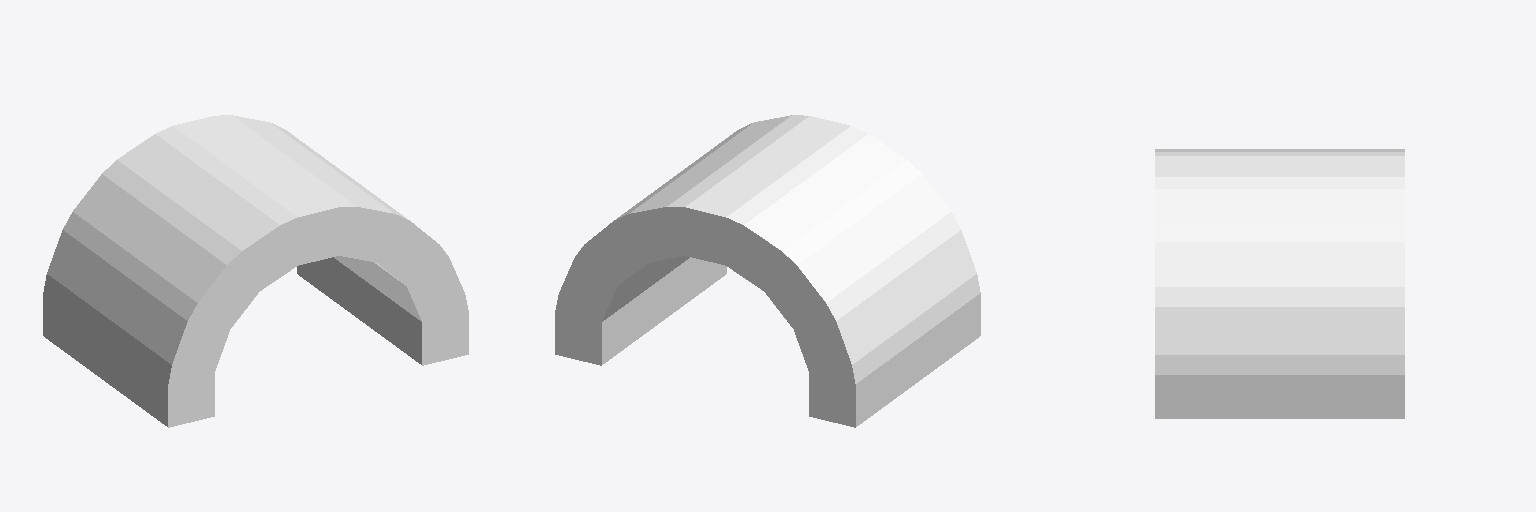
Rendered from smooth_round_arch_1.obj.
3 views of the same model, side by side, from view 1: azimuth 30°, elevation 25°; view 2: azimuth 150°, elevation 25°; view 3: azimuth 270°, elevation 25° (orthographic).
Visible parts, largest first — view 1: cube.002; view 2: cube.002; view 3: cube.002.
Boxes of the visible parts, box(x1,y1,x2,y2) form: cube.002: box(43, 115, 468, 427); cube.002: box(555, 115, 980, 427); cube.002: box(1155, 149, 1404, 418).
Bounding box in the file's own units: 1.42 × 0.8083 × 1.02.